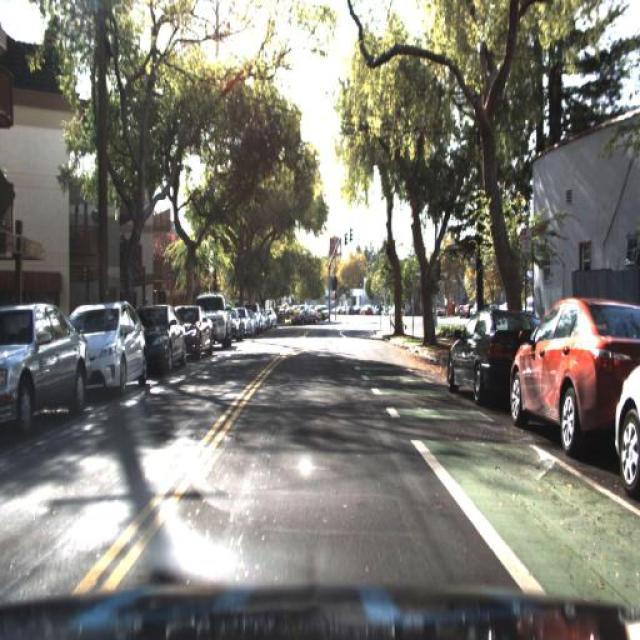car: (498, 289, 622, 460), (501, 296, 635, 452), (0, 296, 89, 442), (440, 294, 520, 422), (84, 292, 150, 393), (612, 356, 640, 516), (130, 297, 188, 373), (146, 299, 190, 380), (182, 298, 212, 362), (208, 292, 232, 346), (230, 300, 244, 344), (354, 298, 372, 316)
